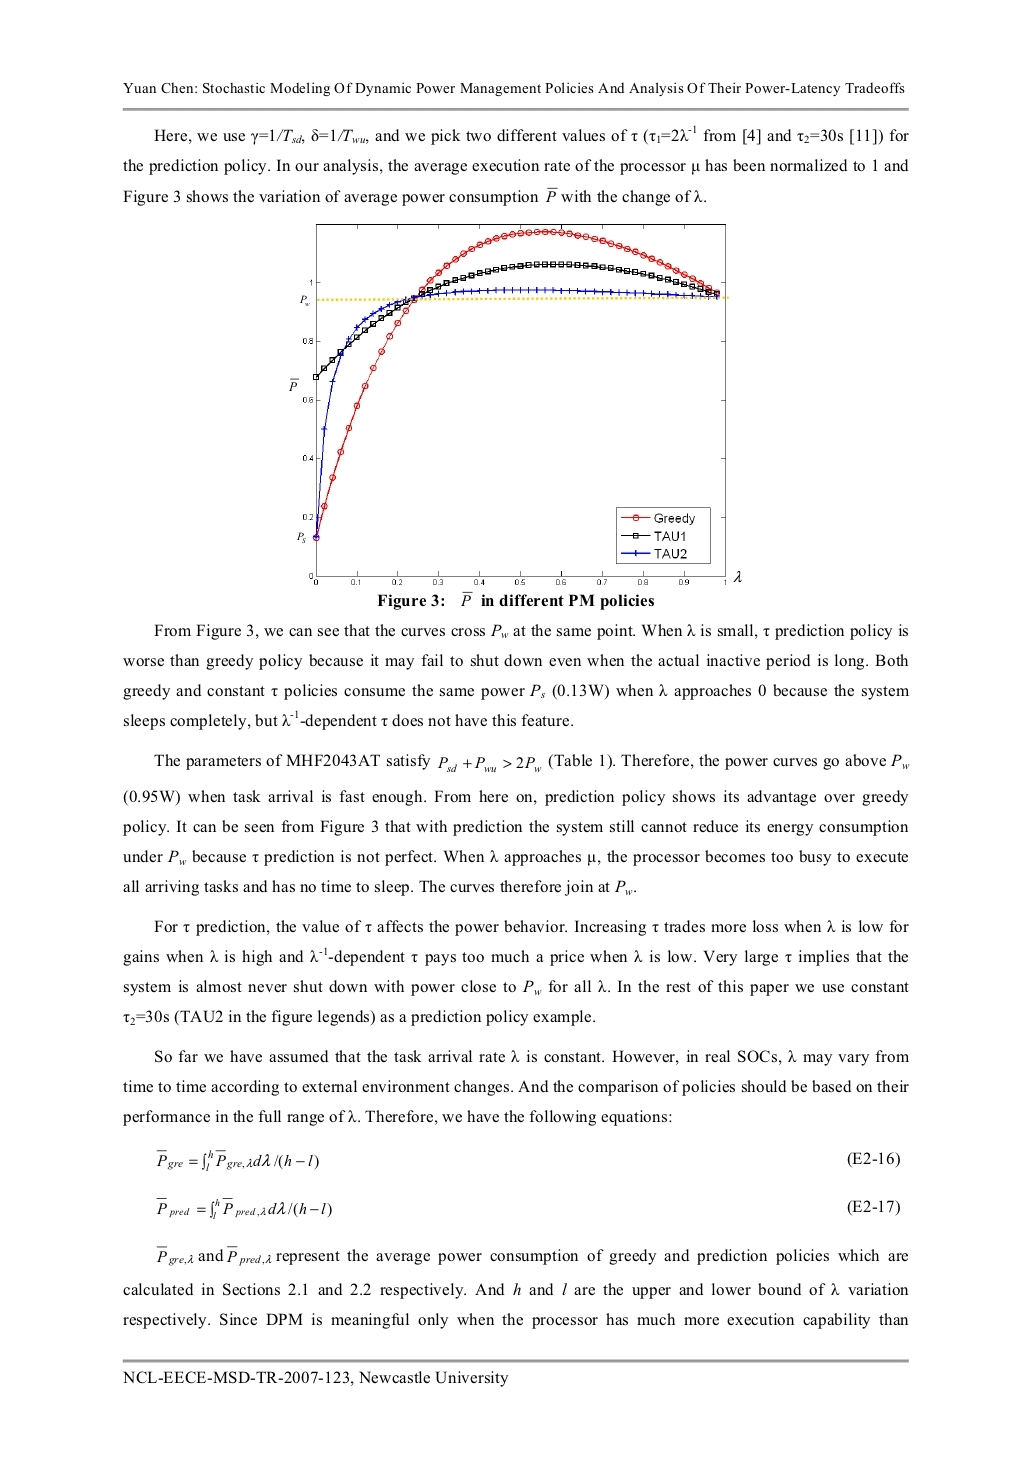figure: (289, 222, 741, 584), (122, 1357, 908, 1363), (122, 107, 908, 112)
formula: (156, 1148, 899, 1171), (156, 1197, 899, 1219)
